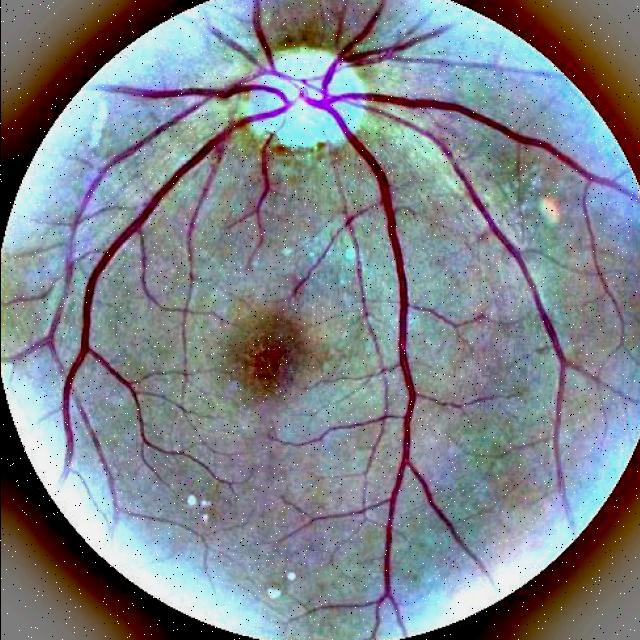Macula: (235, 311, 319, 399)
Nerves: (55, 0, 617, 605)
Optic Disk: (250, 77, 345, 147), (277, 47, 333, 83), (334, 70, 366, 90)
